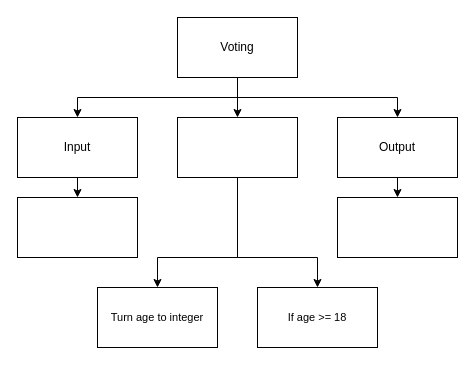
This 475x365 diagram has some shape labels left out. Here are the shapes that lost their labels. From the top down, the centre of each, then its label:
the point at 237,147: Process
the point at 77,227: Get age
the point at 397,227: Show appropiate answer
